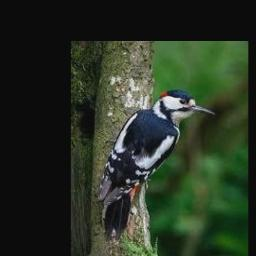Woodpecker: (98, 89, 215, 242)
